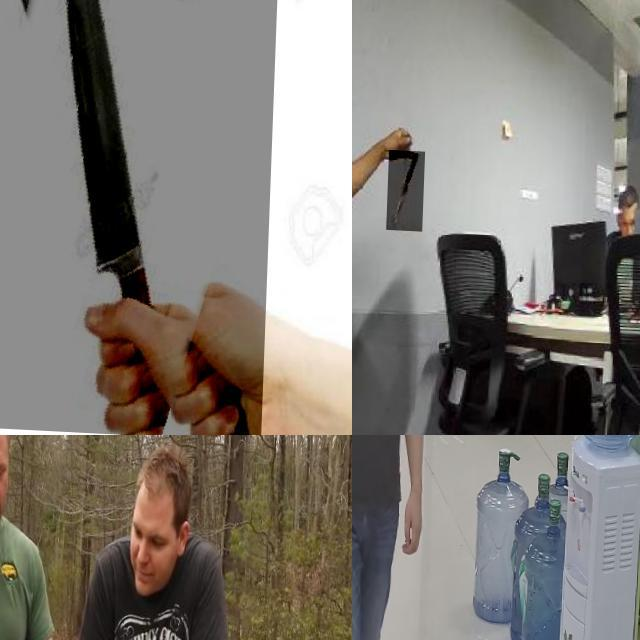-: (0, 0, 281, 435), (390, 147, 428, 228)
gun-knife-thesis - v11 Yolov5 augmented: (360, 435, 421, 476)
